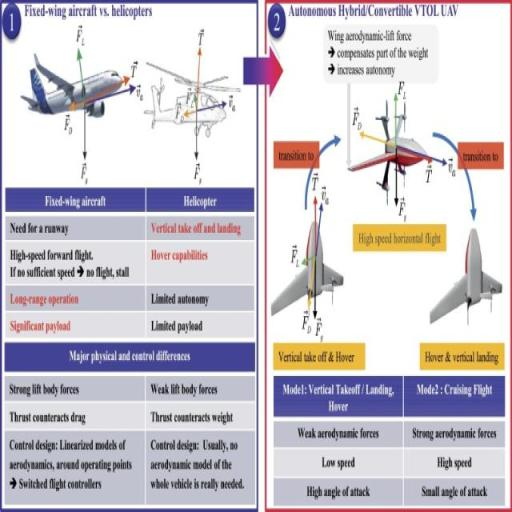uav: (446, 223, 504, 327)
